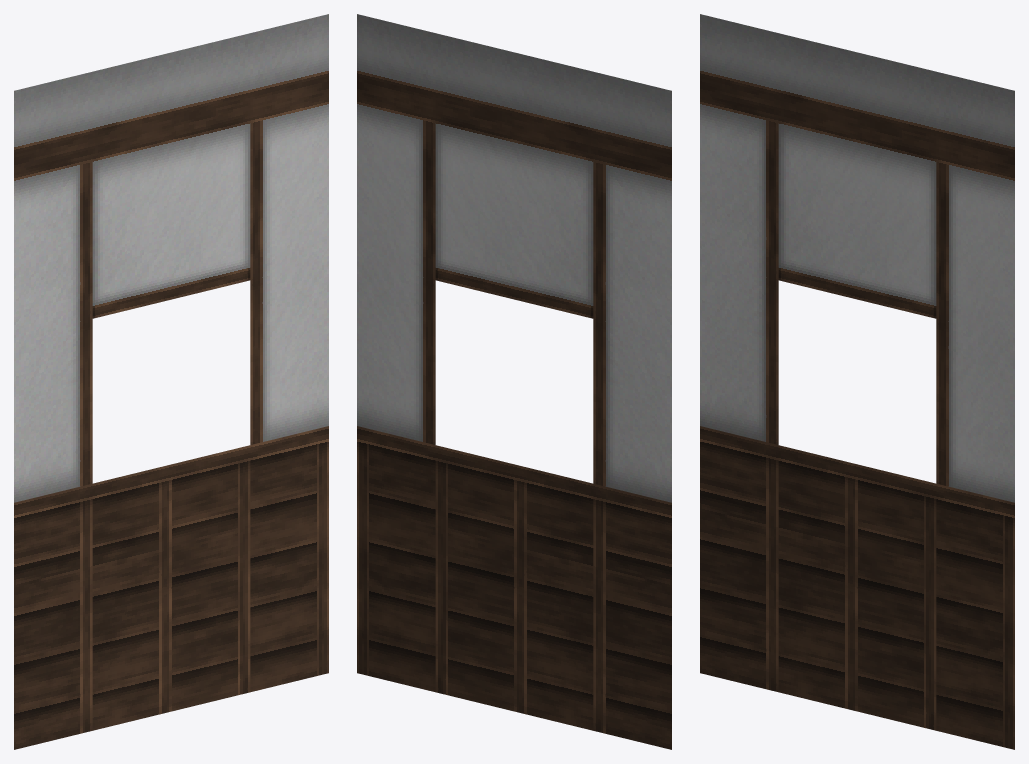
File: house_wall_a_window.glb
3 renders of one model, left to right at view 1: azimuth 30°, elevation 25°; view 2: azimuth 150°, elevation 25°; view 3: azimuth 330°, elevation 25°, orthographic.
Visible parts, largest first — view 1: house_wall_a_window; view 2: house_wall_a_window; view 3: house_wall_a_window.
Part boxes in pixels (box(x1,y1,x2,y2)): house_wall_a_window: box(14, 14, 328, 749); house_wall_a_window: box(357, 14, 671, 749); house_wall_a_window: box(700, 14, 1014, 749).
Bounding box in the file's own units: 2 × 4 × 0.
Materials: 1 (1 with a texture image).
